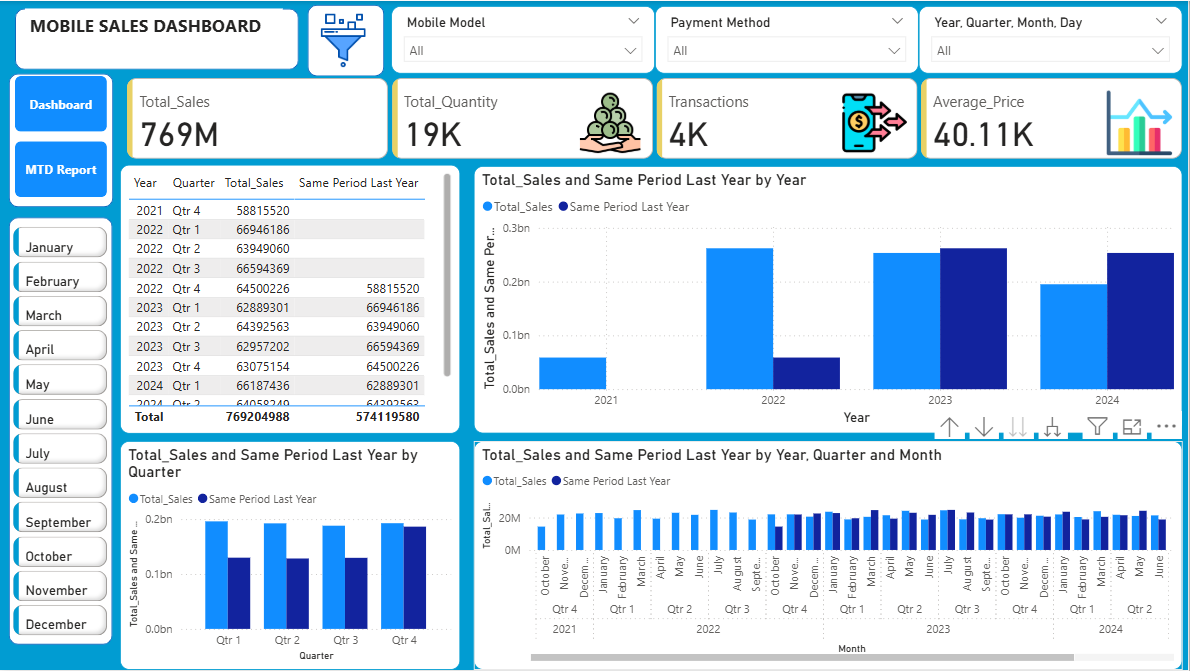

The page's visual inventory and layout, read from the dashboard file:
{"tool":"powerbi","page":{"name":"Same Period Last Year","canvas":[1280,720],"ordinal":2},"visuals":[{"type":"shape","box":[9.6,78.2,112.5,144.1],"z":1000},{"type":"cardVisual","fields":{"Data":["Sales_Data.Total_Sales","Sales_Data.Total_Quantity","Sales_Data.Transactions","Sales_Data.Average_Price"]},"box":[132.3,78.6,1148,97.8],"z":2000},{"type":"slicer","fields":{"Values":["Sales_Data.Mobile Model"]},"box":[421.3,5.5,284,72.7],"z":3000},{"type":"slicer","fields":{"Values":["Sales_Data.Payment Method"]},"box":[705.3,5.5,284,72.7],"z":4000},{"type":"slicer","fields":{"Values":["Custom_Calender.Date.Variation.Date Hierarchy.Year","Custom_Calender.Date.Variation.Date Hierarchy.Quarter","Custom_Calender.Date.Variation.Date Hierarchy.Month","Custom_Calender.Date.Variation.Date Hierarchy.Day"]},"box":[989.4,5.5,284,72.7],"z":5000},{"type":"shape","box":[330.8,4.1,82.7,77.2],"z":6000},{"type":"image","box":[330.8,8.3,77.2,68.9],"z":7000},{"type":"shape","box":[16.2,8.1,305.6,66],"z":8000},{"type":"textbox","box":[26.9,8.1,277.3,57.9],"z":9000},{"type":"shape","box":[9.4,232.9,111.7,460.4],"z":10000},{"type":"advancedSlicerVisual","fields":{"Values":["Custom_Calender.Date.Variation.Date Hierarchy.Month"]},"box":[9.4,238.3,111.7,455],"z":11000},{"type":"tableEx","fields":{"Values":["Custom_Calender.Date.Variation.Date Hierarchy.Year","Custom_Calender.Date.Variation.Date Hierarchy.Quarter","Sales_Data.Total_Sales","Sales_Data.Same Period Last Year"]},"box":[129.2,176.4,366.2,289.4],"z":12000},{"type":"clusteredColumnChart","fields":{"Category":["Custom_Calender.Date.Variation.Date Hierarchy.Year","Custom_Calender.Date.Variation.Date Hierarchy.Quarter"],"Y":["Sales_Data.Total_Sales","Sales_Data.Same Period Last Year"]},"box":[510.2,177.7,763.3,288.1],"z":13000},{"type":"clusteredColumnChart","fields":{"Y":["Sales_Data.Total_Sales","Sales_Data.Same Period Last Year"],"Category":["Custom_Calender.Date.Variation.Date Hierarchy.Year","Custom_Calender.Date.Variation.Date Hierarchy.Quarter","Custom_Calender.Date.Variation.Date Hierarchy.Month","Custom_Calender.Date.Variation.Date Hierarchy.Day"]},"box":[510.2,473.9,763.3,246.4],"z":14000},{"type":"clusteredColumnChart","fields":{"Category":["Custom_Calender.Date.Variation.Date Hierarchy.Year","Custom_Calender.Date.Variation.Date Hierarchy.Quarter"],"Y":["Sales_Data.Total_Sales","Sales_Data.Same Period Last Year"]},"box":[129.2,473.9,366.2,246.4],"z":15000},{"type":"pageNavigator","box":[16.2,80.8,99.6,130.6],"z":16000}]}

Visuals, with their boxes in screenshot pixels (x1, y1, x2, y2), scaled from the page's 1280x720 canvas onto the 1190x671 screenshot:
shape: {"x1": 9, "y1": 73, "x2": 114, "y2": 207}
cardVisual - Sales_Data.Total_Sales x Sales_Data.Total_Quantity: {"x1": 123, "y1": 73, "x2": 1189, "y2": 164}
slicer - Sales_Data.Mobile Model: {"x1": 392, "y1": 5, "x2": 656, "y2": 73}
slicer - Sales_Data.Payment Method: {"x1": 656, "y1": 5, "x2": 920, "y2": 73}
slicer - Custom_Calender.Date.Variation.Date Hierarchy.Year x Custom_Calender.Date.Variation.Date Hierarchy.Quarter: {"x1": 920, "y1": 5, "x2": 1184, "y2": 73}
shape: {"x1": 308, "y1": 4, "x2": 384, "y2": 76}
image: {"x1": 308, "y1": 8, "x2": 379, "y2": 72}
shape: {"x1": 15, "y1": 8, "x2": 299, "y2": 69}
textbox: {"x1": 25, "y1": 8, "x2": 283, "y2": 62}
shape: {"x1": 9, "y1": 217, "x2": 113, "y2": 646}
advancedSlicerVisual - Custom_Calender.Date.Variation.Date Hierarchy.Month: {"x1": 9, "y1": 222, "x2": 113, "y2": 646}
tableEx - Custom_Calender.Date.Variation.Date Hierarchy.Year x Custom_Calender.Date.Variation.Date Hierarchy.Quarter: {"x1": 120, "y1": 164, "x2": 461, "y2": 434}
clusteredColumnChart - Custom_Calender.Date.Variation.Date Hierarchy.Year x Custom_Calender.Date.Variation.Date Hierarchy.Quarter: {"x1": 474, "y1": 166, "x2": 1184, "y2": 434}
clusteredColumnChart - Sales_Data.Total_Sales x Sales_Data.Same Period Last Year: {"x1": 474, "y1": 442, "x2": 1184, "y2": 670}
clusteredColumnChart - Custom_Calender.Date.Variation.Date Hierarchy.Year x Custom_Calender.Date.Variation.Date Hierarchy.Quarter: {"x1": 120, "y1": 442, "x2": 461, "y2": 670}
pageNavigator: {"x1": 15, "y1": 75, "x2": 108, "y2": 197}
